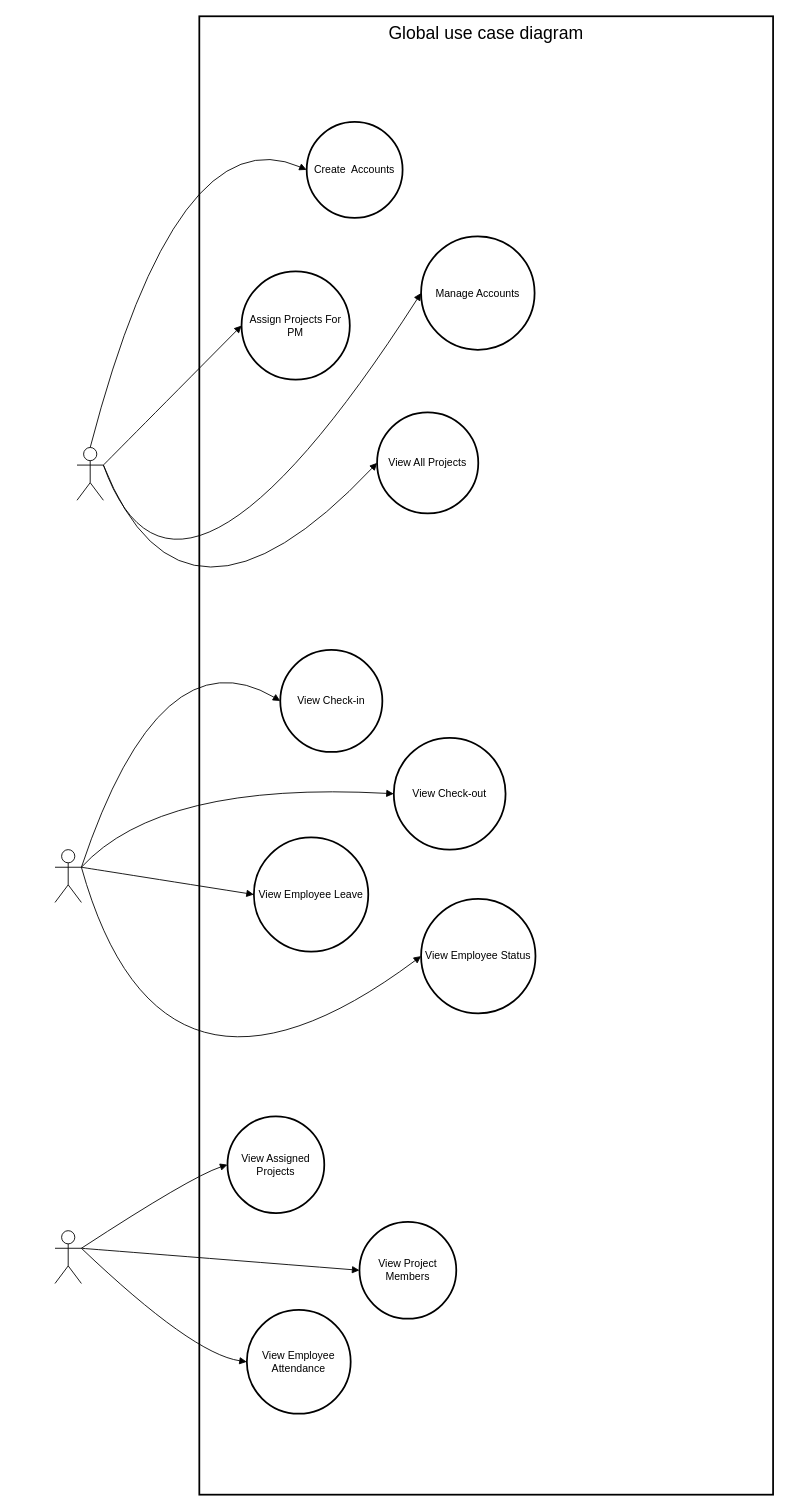
Some shapes in this 789 by 1510 pixel diagram are drawn without their labels. The shapes that lost their labels are listed below. From the top down, each one's centre as x and y in pixels, then its label:
At pixel 89 473: "ADMIN".
At pixel 67 875: "RH".
At pixel 67 1256: "PROJECT MANAGER".
